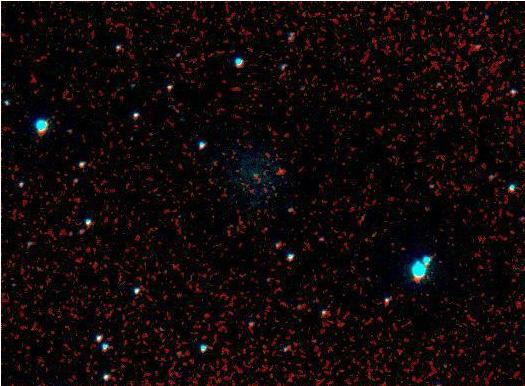star: (265, 155, 295, 185)
